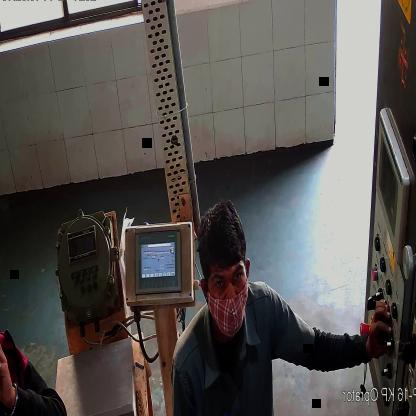no_goggles: (211, 258, 247, 292)
